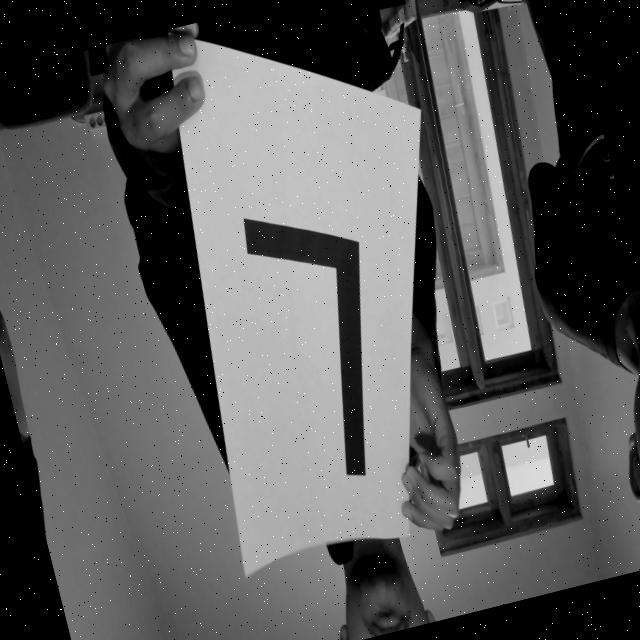l: (202, 137, 420, 526)
